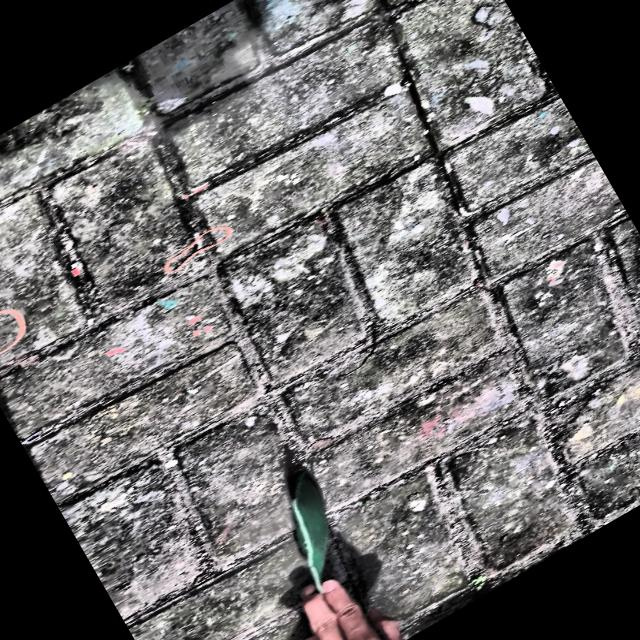payload: (288, 468, 330, 592)
